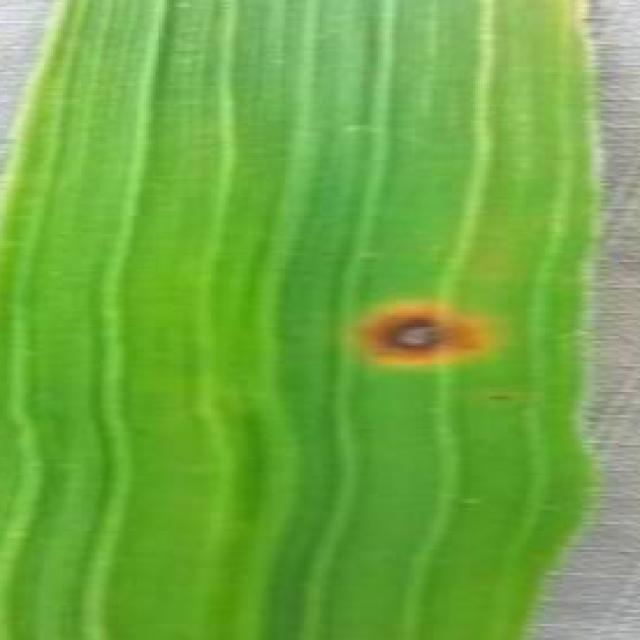Brown_Spot: (350, 290, 508, 376), (482, 384, 526, 410)
